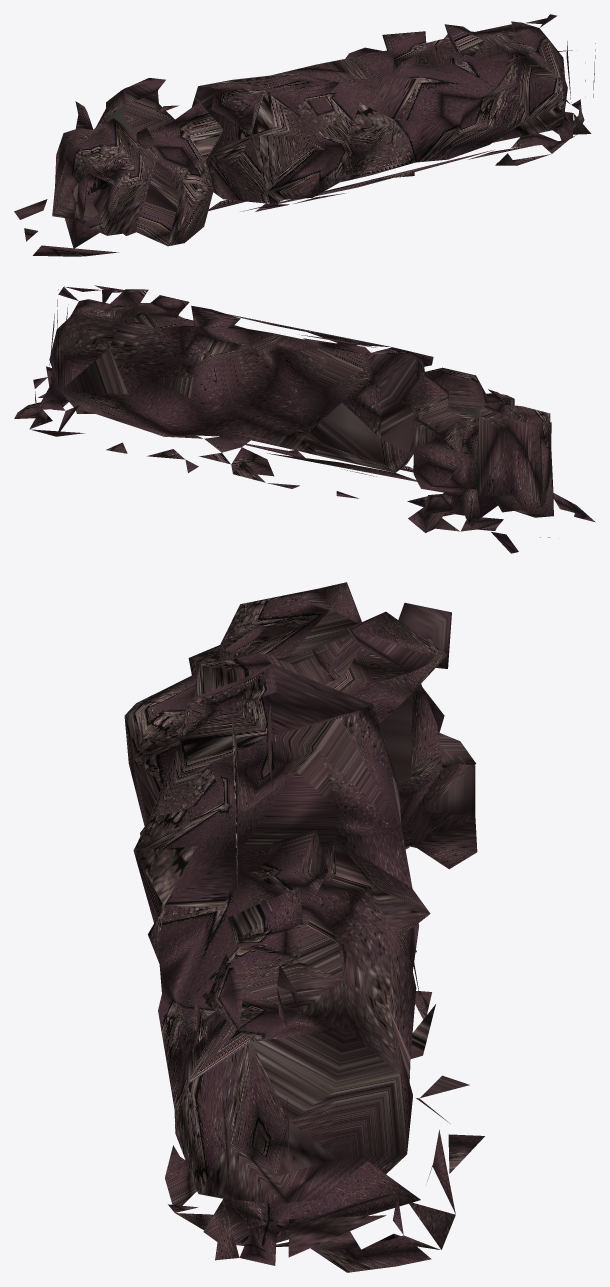
The model's file is trailer.glb.
The picture shows the model from 3 angles, top to bottom: view 1: azimuth 30°, elevation 25°; view 2: azimuth 150°, elevation 25°; view 3: azimuth 270°, elevation 25°; orthographic projection. The views are drawn at different scales.
Visible parts, largest first — view 1: trailer; view 2: trailer; view 3: trailer.
Boxes of the visible parts, x1,y1,x2,y2 form: trailer: (14, 14, 595, 256); trailer: (14, 285, 595, 553); trailer: (124, 582, 484, 1272).
Bounding box in the file's own units: 60.49 × 13.69 × 17.18.
Materials: 1 (1 with a texture image).
